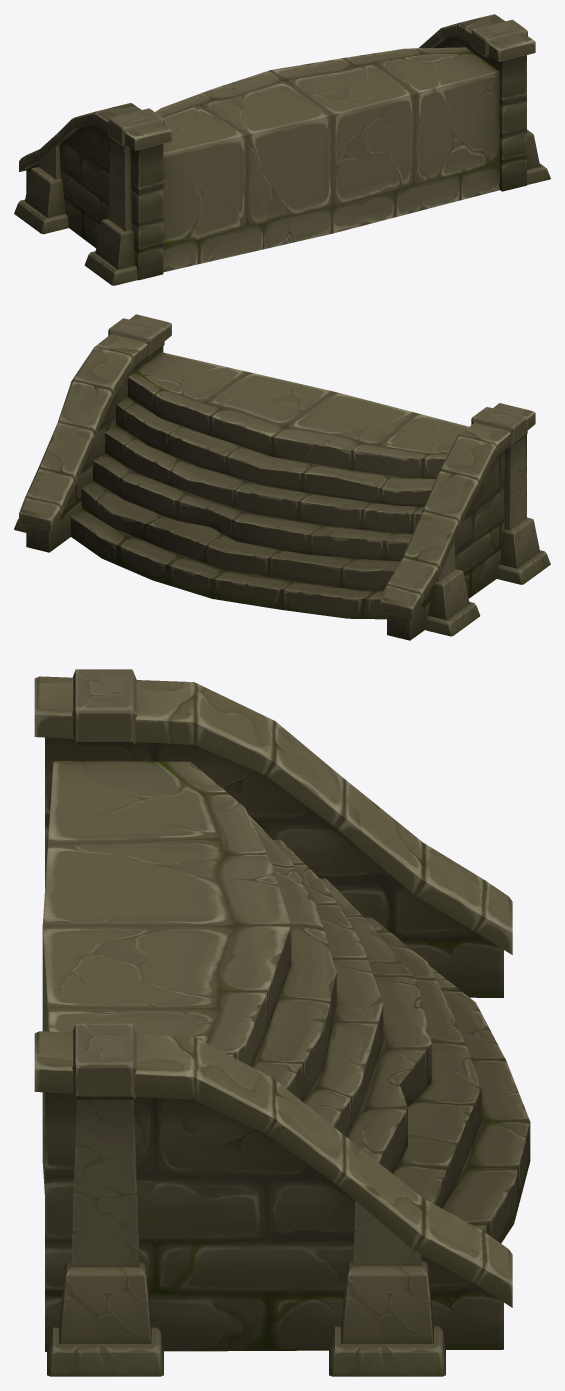
Rendered from Stairs_Large.FBX.
The picture shows the model from 3 angles, top to bottom: view 1: azimuth 30°, elevation 25°; view 2: azimuth 150°, elevation 25°; view 3: azimuth 270°, elevation 25°; orthographic projection. The views are drawn at different scales.
Visible parts, largest first — view 1: Stairs_Large; view 2: Stairs_Large; view 3: Stairs_Large.
Boxes of the visible parts, x1,y1,x2,y2 form: Stairs_Large: (14,14,550,285); Stairs_Large: (14,314,550,640); Stairs_Large: (34,669,530,1376).
Size of what is drawn, in the model's own units: 948 by 464 by 306.
